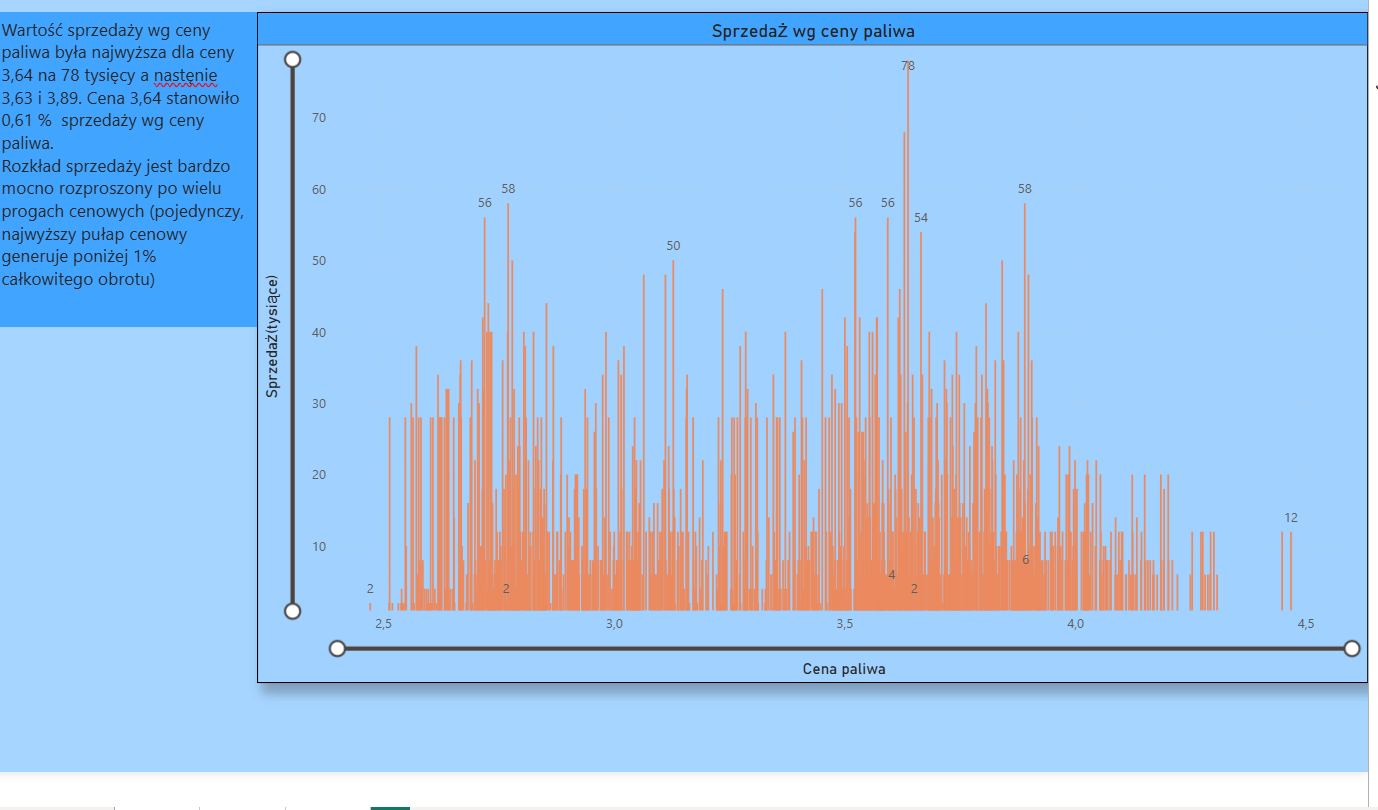

The page's visual inventory and layout, read from the dashboard file:
{"tool":"powerbi","page":{"name":"Strona 2","canvas":[1280,720],"ordinal":1},"visuals":[{"type":"columnChart","title":"Sprzedaż wg ceny paliwa","fields":{"Y":["CountNonNull(Walmart_Sales.Weekly_Sales)"],"Category":["Walmart_Sales.Fuel_Price"]},"box":[250.1,15.8,1029.9,621.5],"z":0},{"type":"textbox","box":[8.3,15.8,241.9,292],"z":1000}]}

Visuals, with their boxes on the page's 1280x720 design canvas (x1, y1, x2, y2). These are canvas units, not pixel positions in the 1378x810 screenshot, which may show the page scaled, cropped or inside an application window:
"Sprzedaż wg ceny paliwa" columnChart: {"x1": 250, "y1": 16, "x2": 1280, "y2": 637}
textbox: {"x1": 8, "y1": 16, "x2": 250, "y2": 308}
